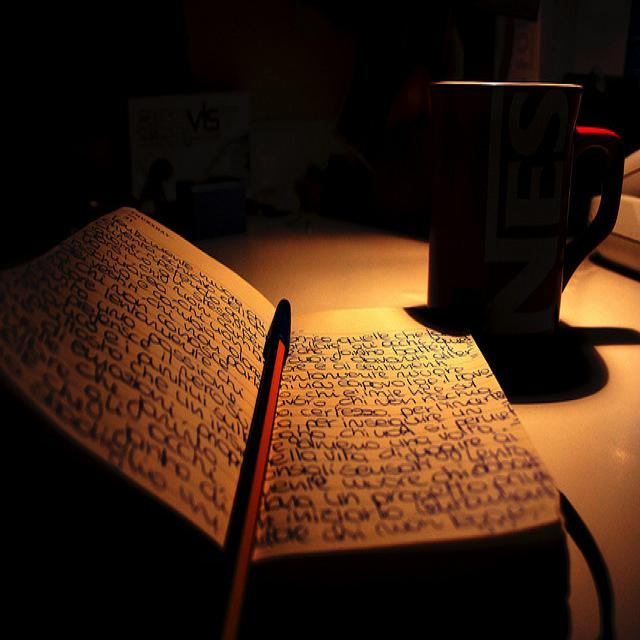Cup: (430, 52, 617, 399)
Table: (0, 166, 640, 640)
